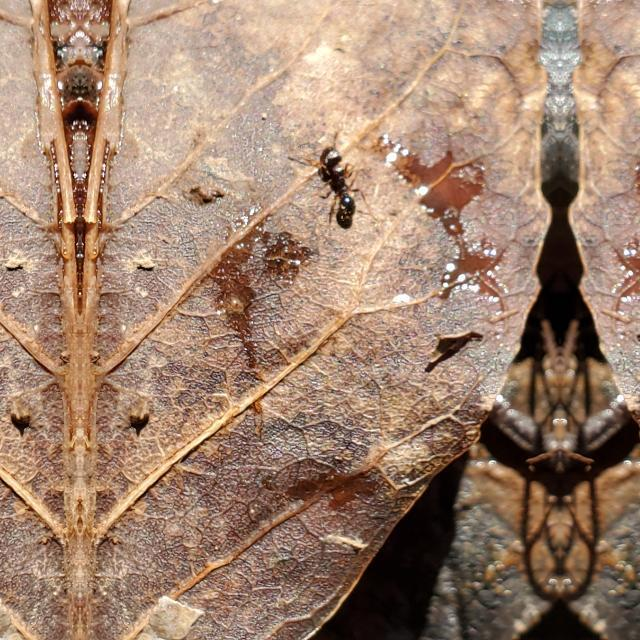Tetramorium: (306, 131, 374, 223)
